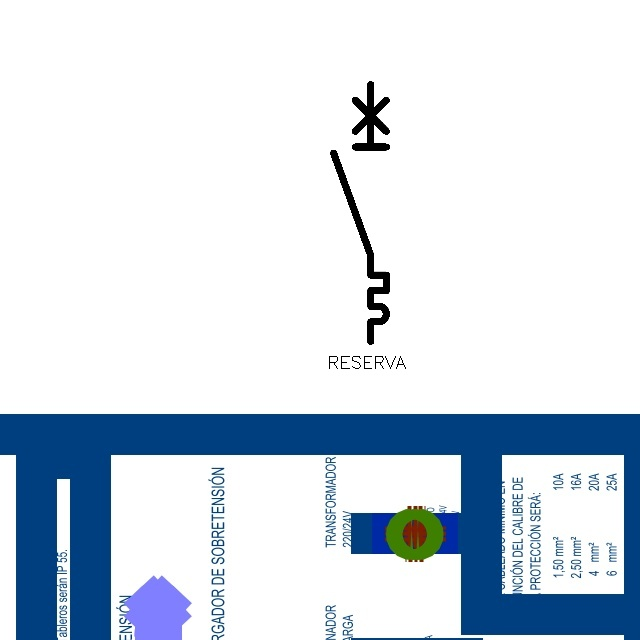interruptor_termomagnetico: (327, 78, 393, 348)
